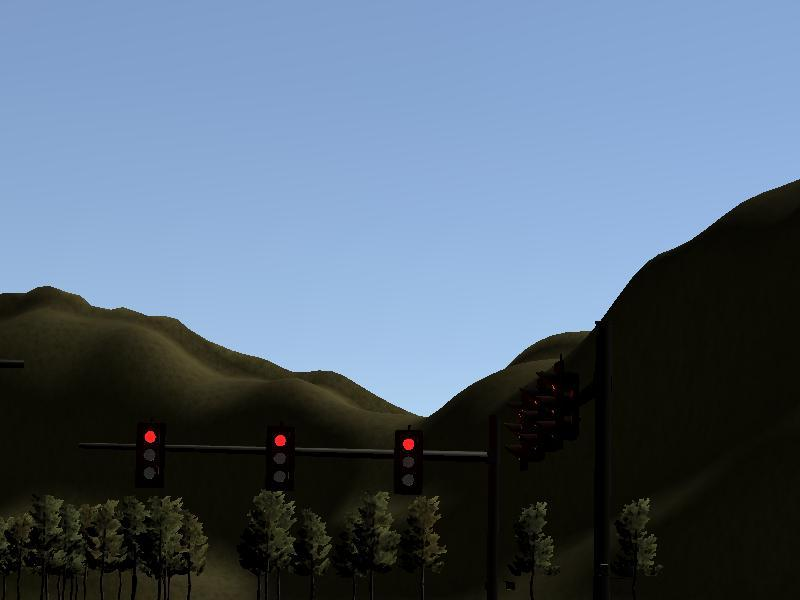Red: (138, 425, 166, 486), (396, 433, 423, 489), (267, 431, 292, 486)
